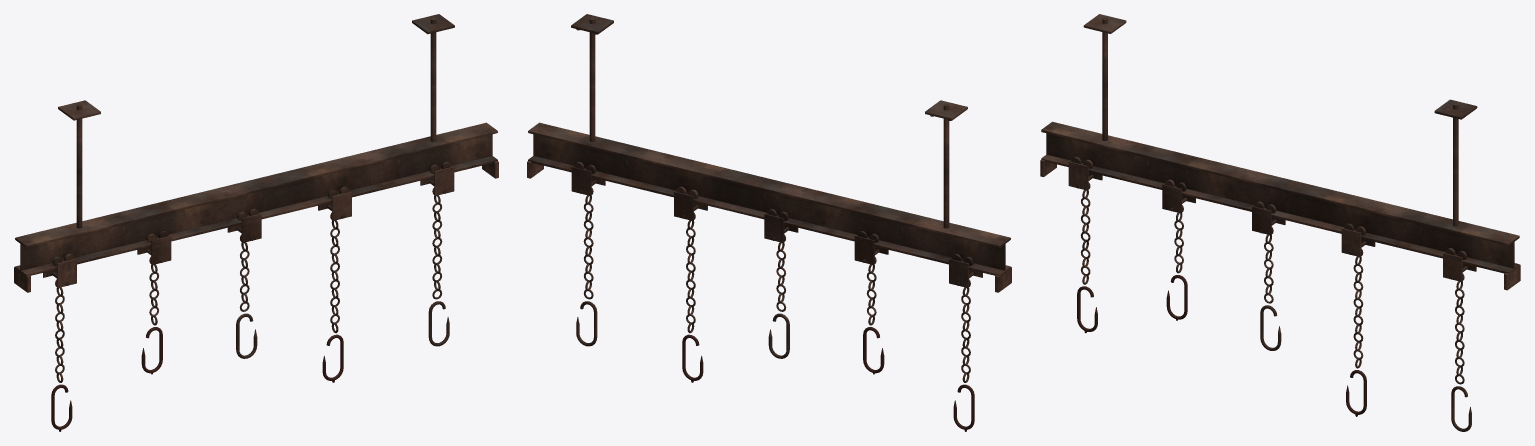
The model's file is Meat_Hooks.fbx.
3 renders of one model, left to right at view 1: azimuth 30°, elevation 25°; view 2: azimuth 150°, elevation 25°; view 3: azimuth 330°, elevation 25°, orthographic.
Visible parts, largest first — view 1: Meat_Hooks_Mesh; view 2: Meat_Hooks_Mesh; view 3: Meat_Hooks_Mesh.
Part boxes in pixels (left/top/right/bottom): Meat_Hooks_Mesh: left=14, top=14, right=498, bottom=431; Meat_Hooks_Mesh: left=527, top=14, right=1011, bottom=431; Meat_Hooks_Mesh: left=1040, top=14, right=1520, bottom=431.
Bounding box in the file's own units: 2.4 × 1.65 × 0.14.
